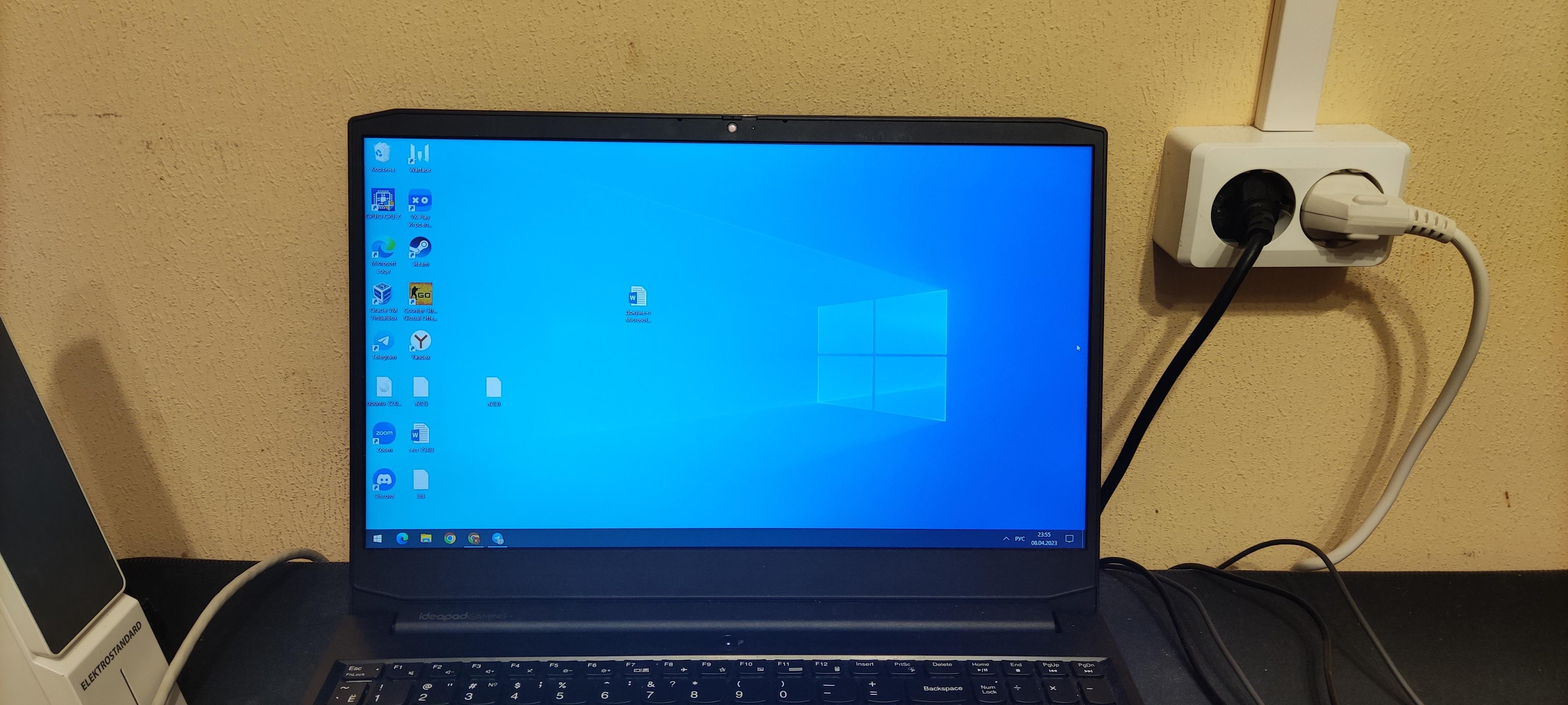monitor: (343, 102, 1113, 625)
